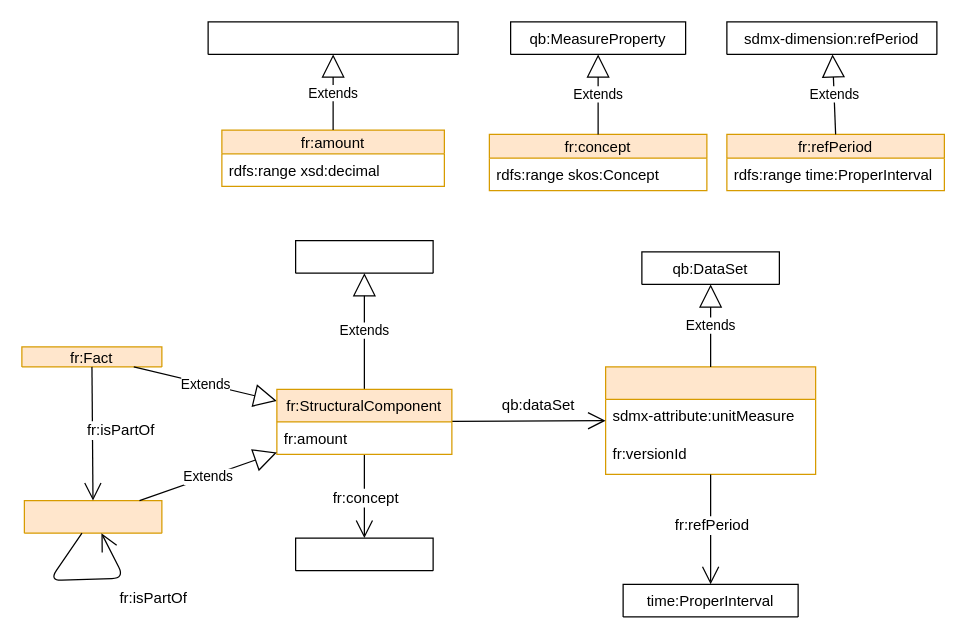
Image size: 966x639. Some labels were removed from this diagram. The box of each missing label's shape, as (x1, y1, x2, y2) in pixels:
fr:Component: (23, 499, 162, 533)
fr:FinancialReport: (604, 366, 816, 474)
qb:Observation: (294, 239, 433, 273)
sdmx-measure:obsValue: (207, 21, 458, 54)
skos:Concept: (294, 537, 433, 571)
